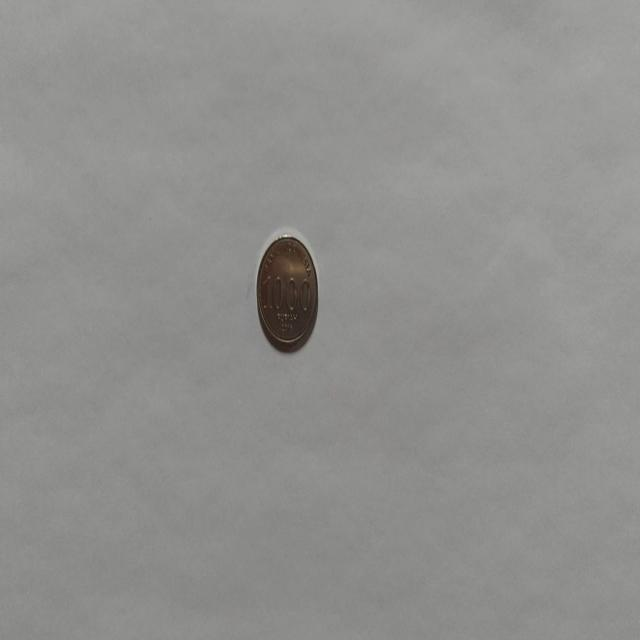seribu rupiah koin: (254, 231, 320, 353)
